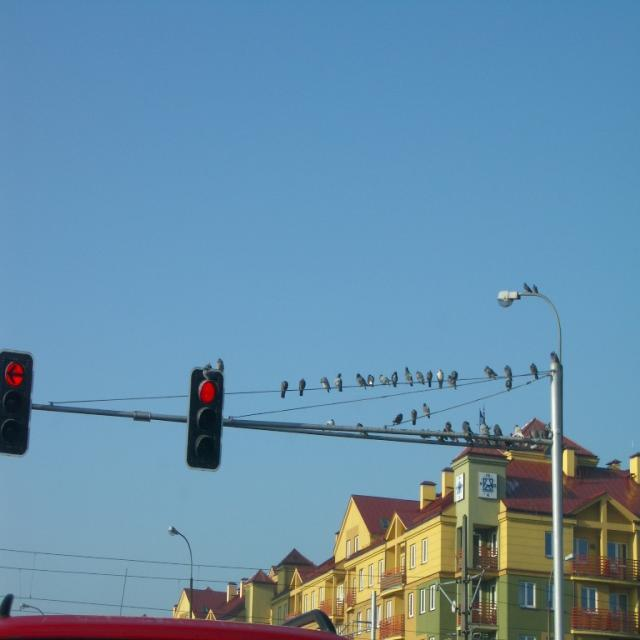traffic light: (186, 373, 218, 470), (0, 345, 29, 446)
